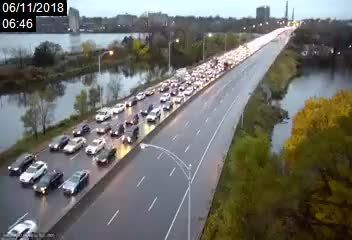congestion: (1, 144, 113, 238), (47, 115, 138, 155), (100, 96, 169, 129), (140, 83, 198, 106), (163, 72, 211, 89), (190, 62, 234, 78)
personal_car: (1, 220, 39, 240), (34, 172, 62, 195), (64, 169, 87, 196), (6, 149, 33, 172), (21, 162, 45, 185), (121, 128, 142, 148), (66, 137, 86, 155), (86, 137, 106, 154), (98, 148, 118, 164), (70, 121, 90, 137), (145, 109, 163, 125), (50, 135, 68, 150), (93, 106, 110, 121), (95, 122, 111, 134), (110, 123, 123, 136), (112, 102, 125, 115), (138, 103, 151, 114), (159, 92, 170, 103), (125, 97, 136, 107), (136, 92, 145, 100)
